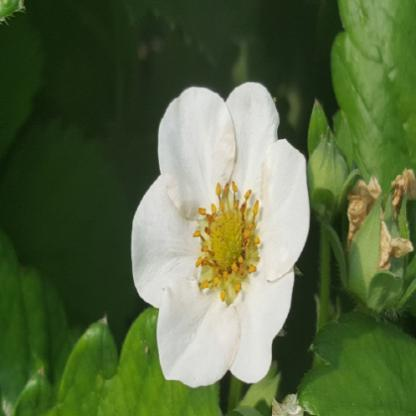Strawberry_Blossom_Blight: (189, 177, 264, 305)
